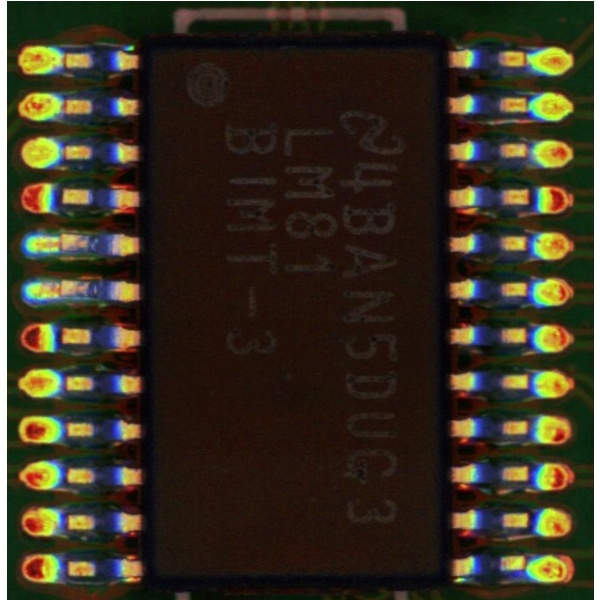Bad_podu: (45, 279, 71, 296), (46, 236, 68, 248)
